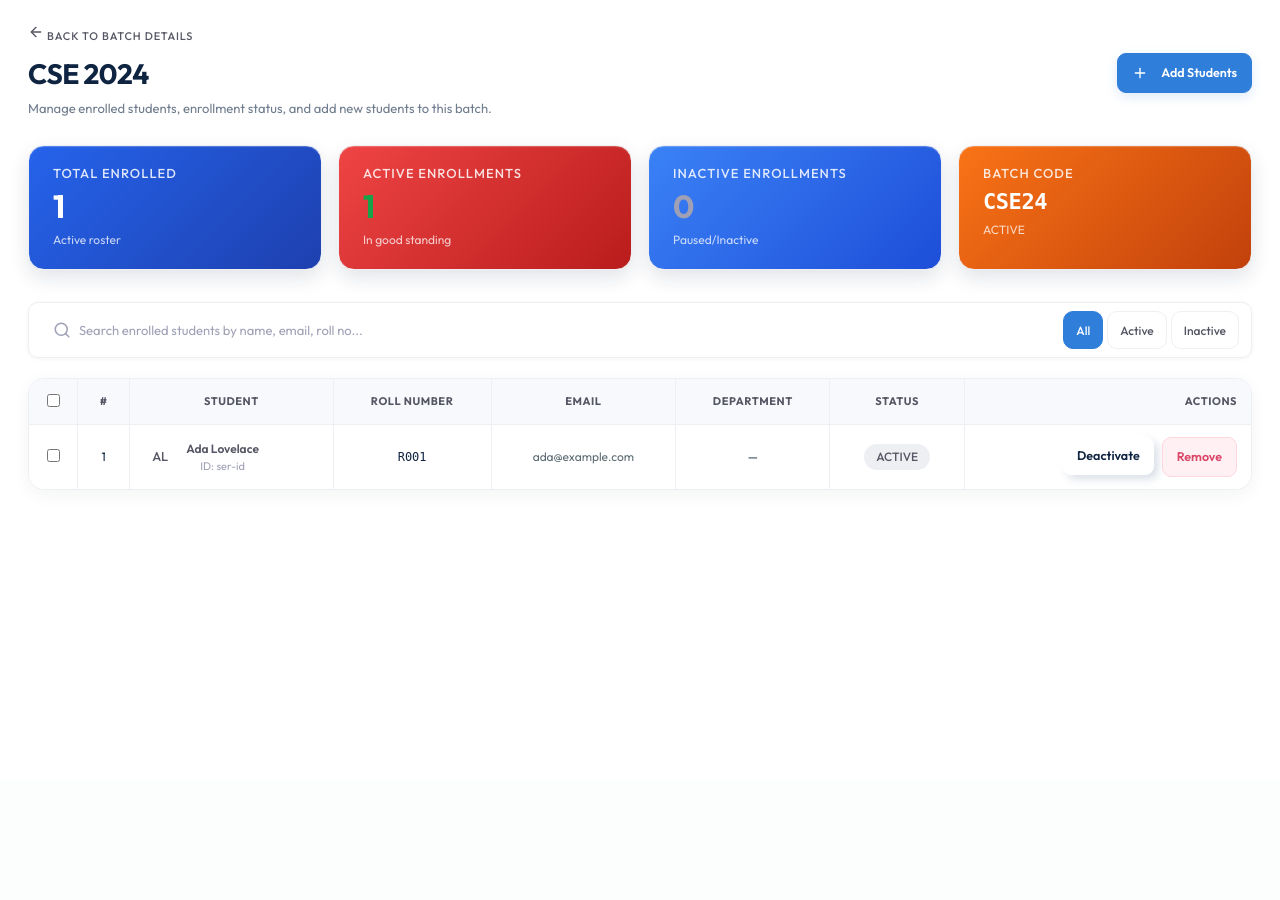
Scenario: Scenario 9: the enrolled student is excluded from the available-students selector
This screenshot has width=1280, height=900.
Click the button "Add Students" at (1185, 72), box [1117,52,1252,92]
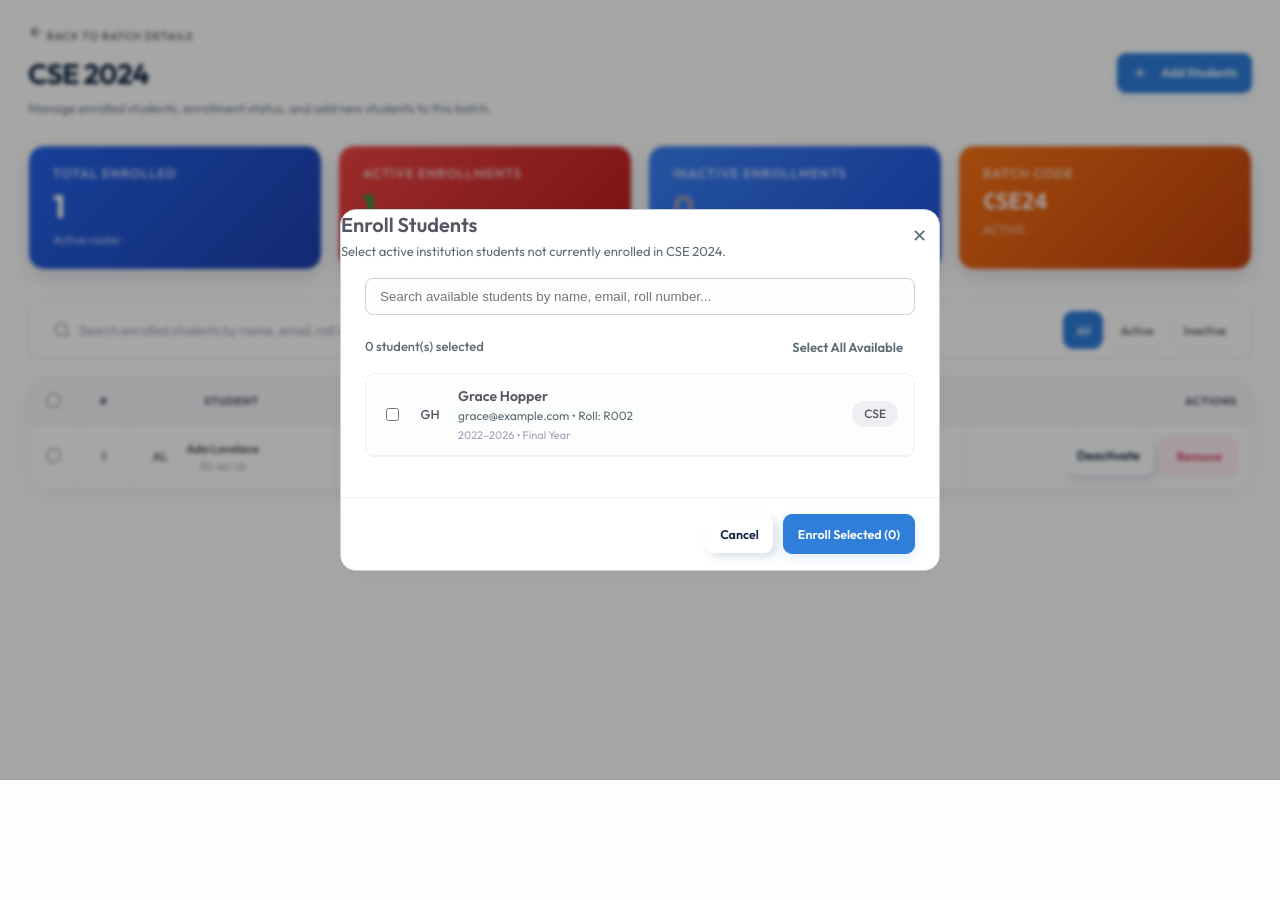
Now the heading "Enroll Students" is shown, box [341,212,477,237]
Now the text "Grace Hopper" is shown, box [458,386,548,404]
